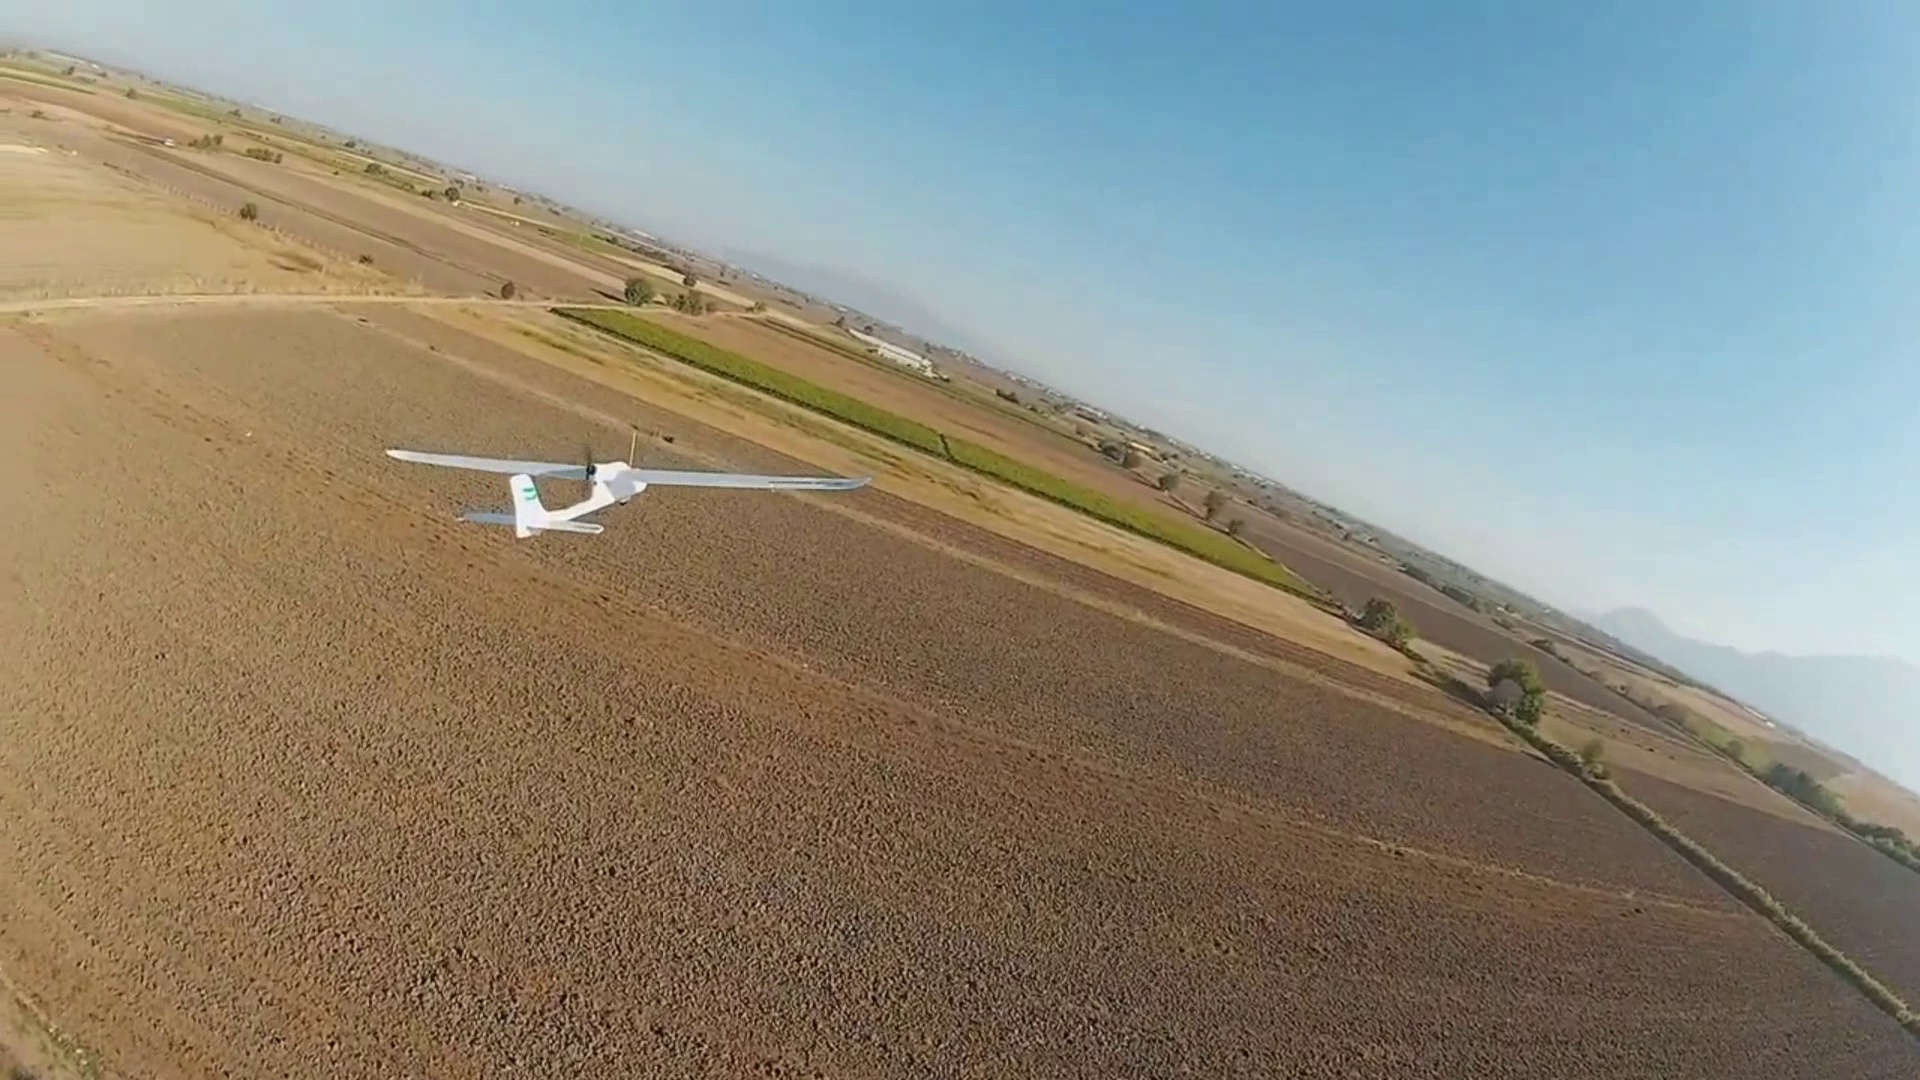airplane: (385, 444, 866, 541), (385, 447, 703, 538)
